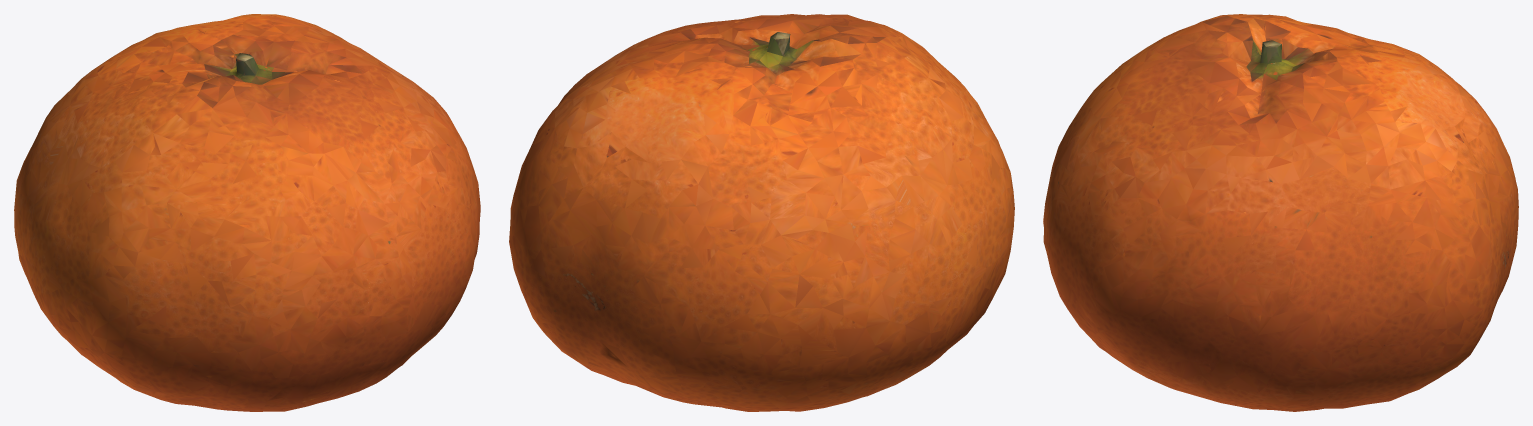
File: mikan.glb
The picture shows the model from 3 angles, left to right: view 1: azimuth 30°, elevation 25°; view 2: azimuth 150°, elevation 25°; view 3: azimuth 270°, elevation 25°; orthographic projection. The views are drawn at different scales.
Visible parts, largest first — view 1: MikanMandarin; view 2: MikanMandarin; view 3: MikanMandarin.
Part boxes in pixels (left/top/right/bottom): MikanMandarin: left=14, top=14, right=480, bottom=411; MikanMandarin: left=509, top=14, right=1014, bottom=411; MikanMandarin: left=1043, top=14, right=1518, bottom=411.
Size of the model in its own units: 0.0739 by 0.0553 by 0.075.
Materials: 2 (2 with a texture image).
